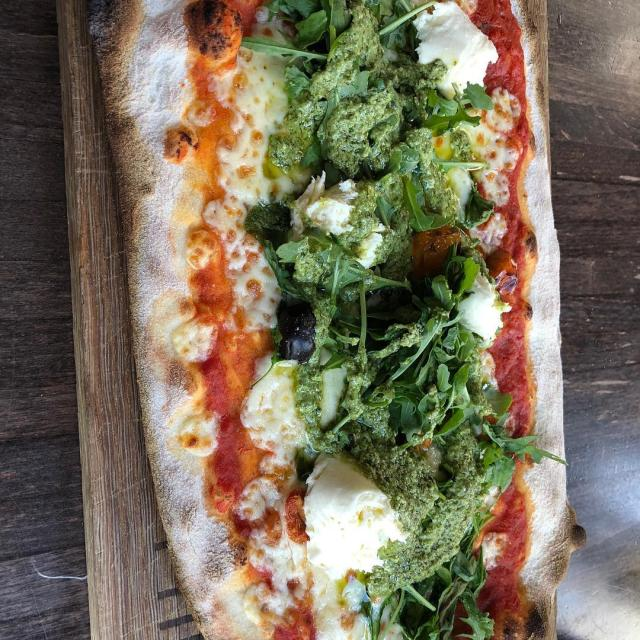basil: (245, 0, 544, 640)
pizza: (91, 0, 581, 640)
